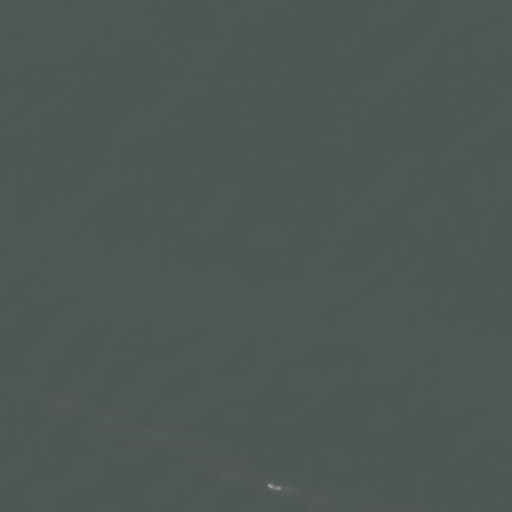ship: (264, 480, 286, 494)
